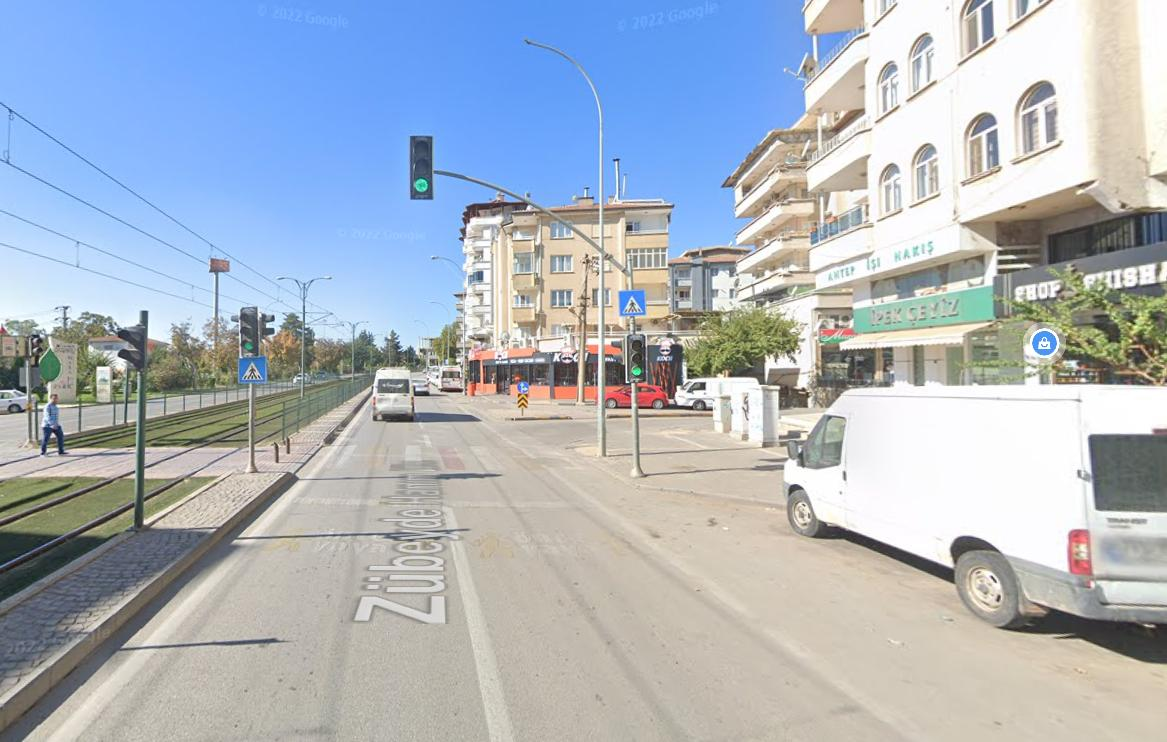greenlight: (412, 135, 434, 196), (236, 306, 258, 354), (626, 330, 646, 381)
